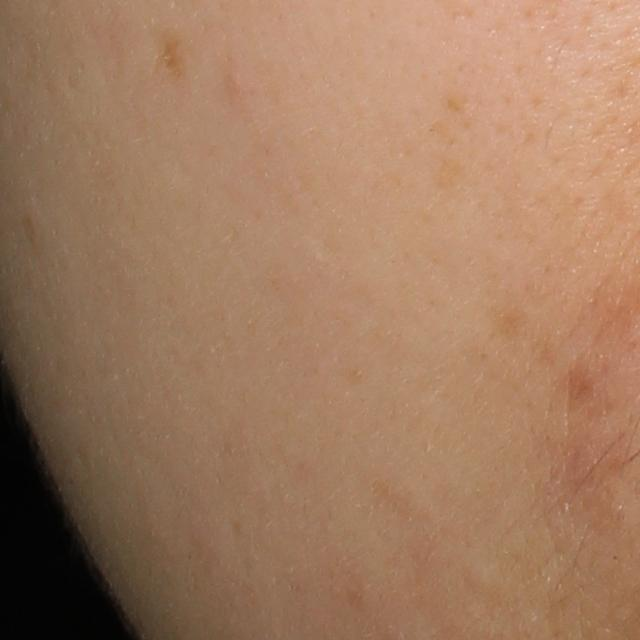melasma: (150, 25, 193, 88)
